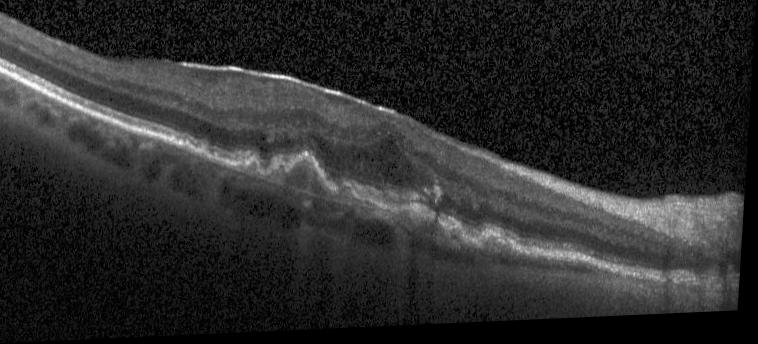retinal_drusen: (288, 163, 331, 200), (420, 221, 449, 242), (337, 190, 363, 211), (268, 168, 286, 186), (400, 213, 419, 226), (488, 239, 502, 256), (246, 163, 260, 179), (502, 249, 514, 261), (452, 232, 462, 243)
